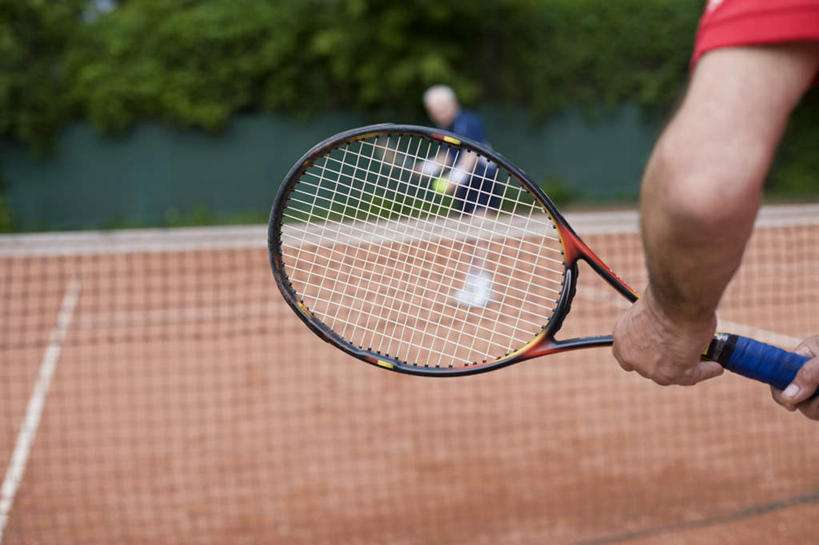no-phone: (581, 251, 745, 396)
